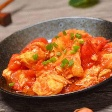fanqiechaojidan: (1, 28, 112, 98)
